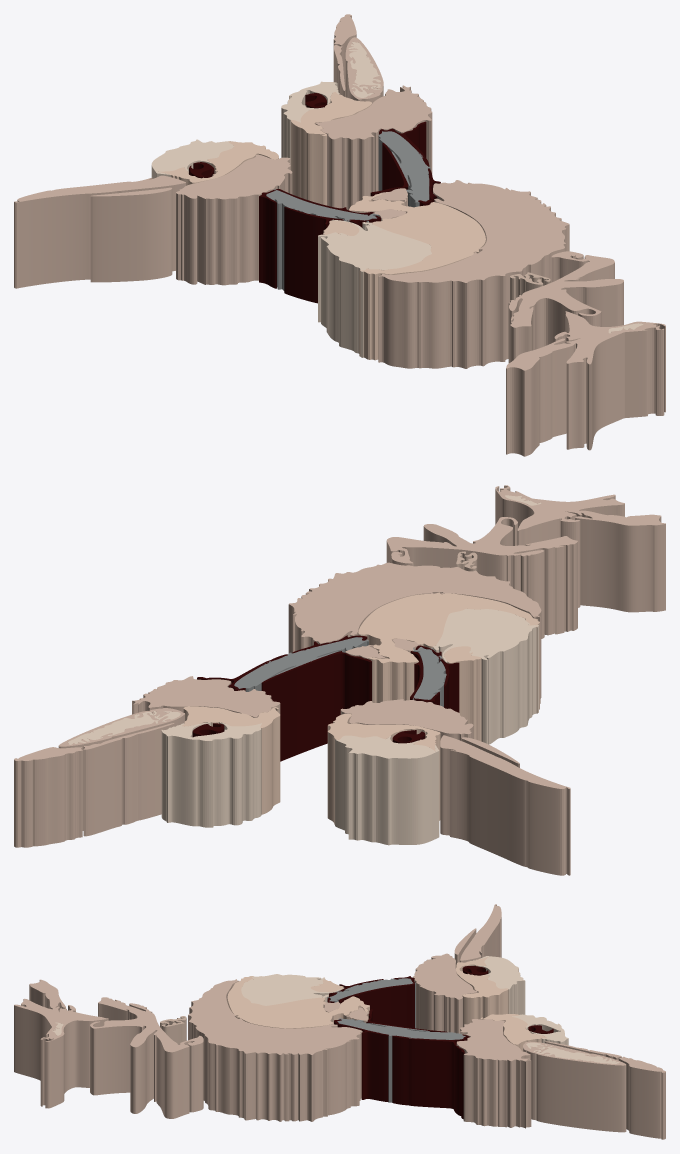
The picture shows the model from 3 angles, top to bottom: view 1: azimuth 30°, elevation 25°; view 2: azimuth 150°, elevation 25°; view 3: azimuth 270°, elevation 25°; orthographic projection. The views are drawn at different scales.
Parts seen in each view (by area): view 1: imagetostl_mesh8, imagetostl_mesh0, imagetostl_mesh1, imagetostl_mesh4, imagetostl_mesh12, imagetostl_mesh18, imagetostl_mesh6, imagetostl_mesh25, imagetostl_mesh32, imagetostl_mesh2, imagetostl_mesh33, imagetostl_mesh56 (+18 smaller); view 2: imagetostl_mesh12, imagetostl_mesh8, imagetostl_mesh34, imagetostl_mesh38, imagetostl_mesh1, imagetostl_mesh6, imagetostl_mesh20, imagetostl_mesh52, imagetostl_mesh14, imagetostl_mesh32, imagetostl_mesh25, imagetostl_mesh33 (+20 smaller); view 3: imagetostl_mesh0, imagetostl_mesh6, imagetostl_mesh10, imagetostl_mesh8, imagetostl_mesh1, imagetostl_mesh46, imagetostl_mesh2, imagetostl_mesh25, imagetostl_mesh14, imagetostl_mesh33, imagetostl_mesh58, imagetostl_mesh3 (+19 smaller).
Boxes of the visible parts, box(x1,y1,x2,y2) form: imagetostl_mesh8: box(506, 311, 665, 456); imagetostl_mesh0: box(378, 183, 569, 368); imagetostl_mesh1: box(379, 180, 569, 282); imagetostl_mesh4: box(176, 156, 292, 285); imagetostl_mesh12: box(14, 178, 186, 288); imagetostl_mesh18: box(90, 189, 172, 282); imagetostl_mesh6: box(508, 255, 623, 362); imagetostl_mesh25: box(349, 193, 485, 274); imagetostl_mesh32: box(318, 220, 384, 357); imagetostl_mesh2: box(315, 86, 432, 210); imagetostl_mesh33: box(318, 219, 431, 271); imagetostl_mesh56: box(284, 207, 380, 303); imagetostl_mesh12: box(440, 747, 570, 875); imagetostl_mesh8: box(495, 485, 665, 612); imagetostl_mesh34: box(335, 736, 439, 845); imagetostl_mesh38: box(161, 722, 261, 827); imagetostl_mesh1: box(289, 562, 541, 643); imagetostl_mesh6: box(386, 518, 577, 638); imagetostl_mesh20: box(83, 724, 174, 836); imagetostl_mesh52: box(261, 653, 371, 761); imagetostl_mesh14: box(14, 748, 82, 847); imagetostl_mesh32: box(433, 624, 538, 744); imagetostl_mesh25: box(358, 592, 539, 663); imagetostl_mesh33: box(433, 608, 538, 662); imagetostl_mesh0: box(188, 981, 362, 1121); imagetostl_mesh6: box(90, 1000, 203, 1118); imagetostl_mesh10: box(523, 1048, 626, 1132); imagetostl_mesh8: box(14, 980, 108, 1108); imagetostl_mesh1: box(188, 979, 361, 1054); imagetostl_mesh46: box(392, 1036, 469, 1119); imagetostl_mesh2: box(456, 1020, 531, 1128); imagetostl_mesh25: box(227, 976, 369, 1028); imagetostl_mesh14: box(618, 1058, 665, 1139); imagetostl_mesh33: box(241, 974, 343, 1005); imagetostl_mesh58: box(334, 1021, 388, 1101); imagetostl_mesh3: box(457, 1019, 530, 1061).
Size of the model in its own units: 54.09 by 10 by 88.42.
